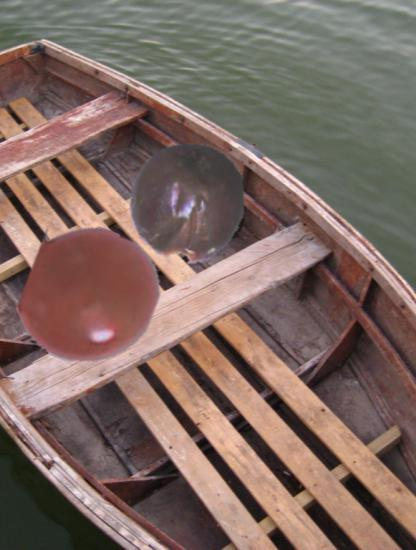Passion: (125, 141, 250, 266)
Redcurrant: (22, 228, 160, 366)
